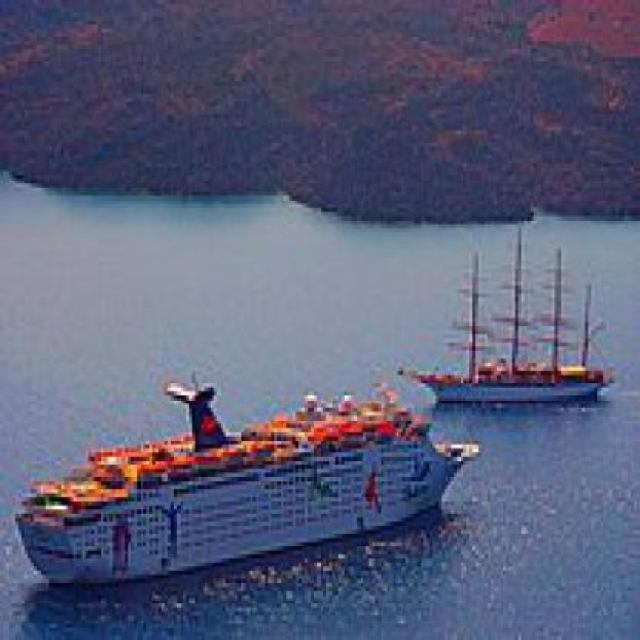cruise: (7, 356, 501, 604)
